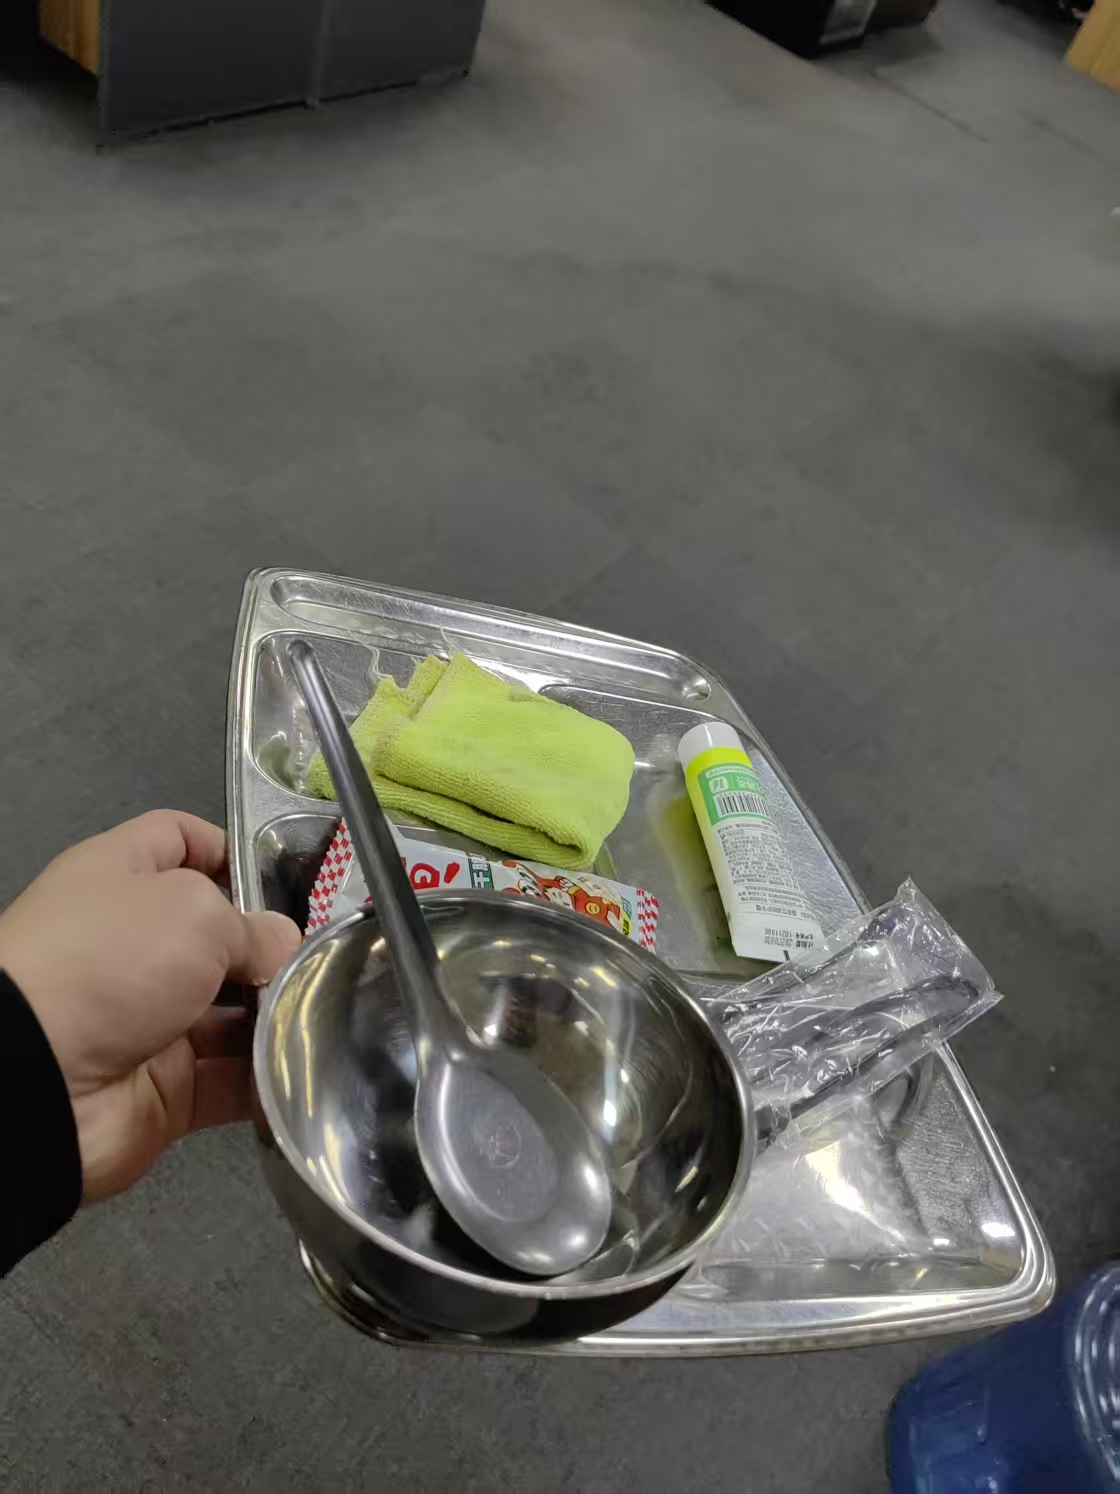moderate: (299, 647, 1002, 1185)
plate: (231, 563, 1062, 1358)
